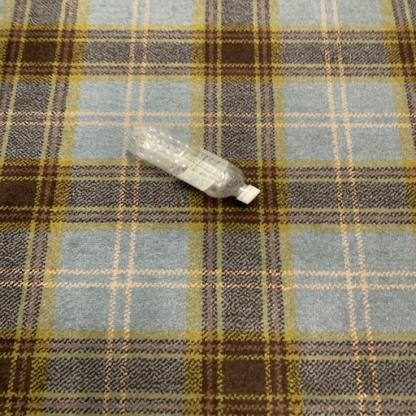trash: (123, 122, 261, 212)
